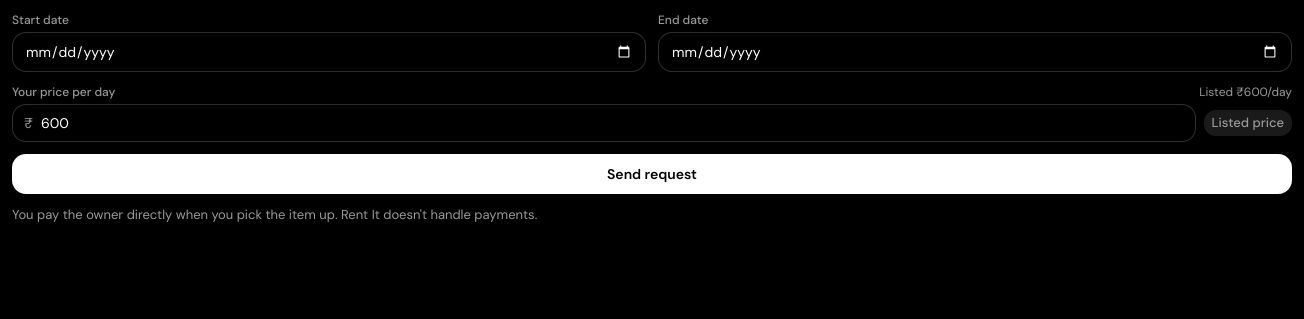
Test: OfferForm › won't submit without dates or with a zero price
Submit the form
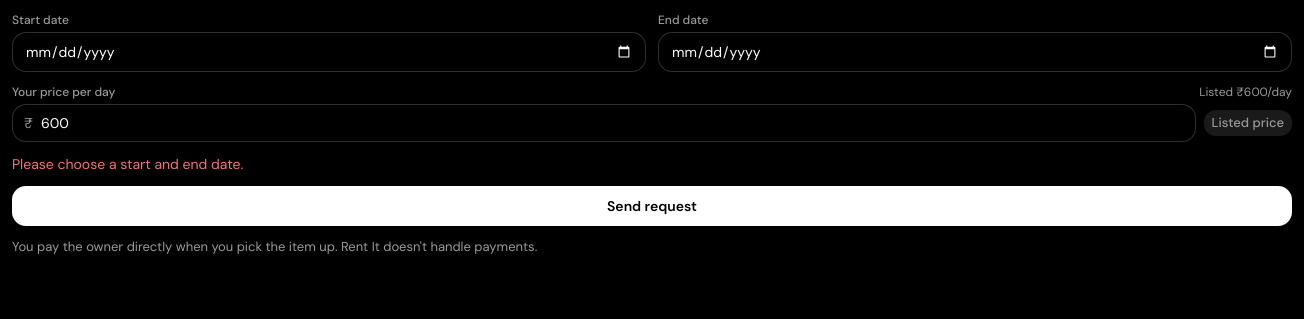
Check: the text "Please choose a start and end date." is shown, box [12,155,243,173]
Type "2099-10-12" into the date field below "Start date" at (329, 52), box [12,32,646,72]
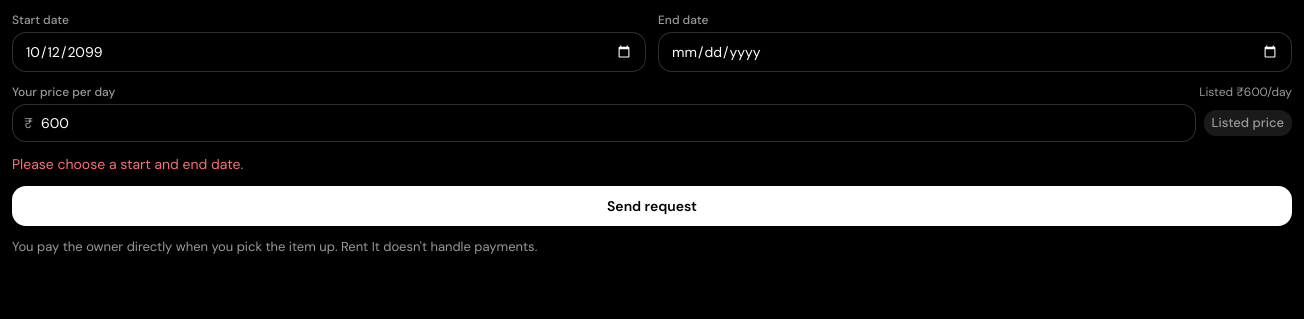
Type "2099-10-15" into the 2nd date field at (975, 52), box [658,32,1292,72]
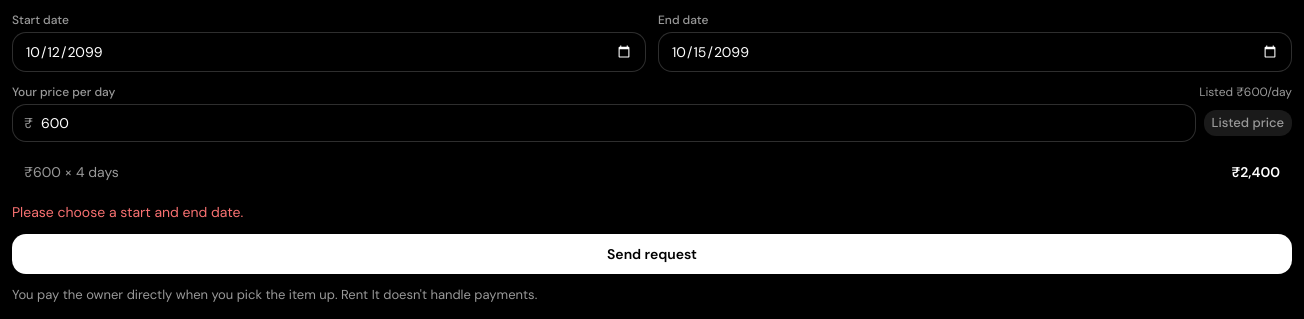
Replace the text in the number field labelled "Your price per day" with "0" at (604, 123), box [12,104,1196,142]
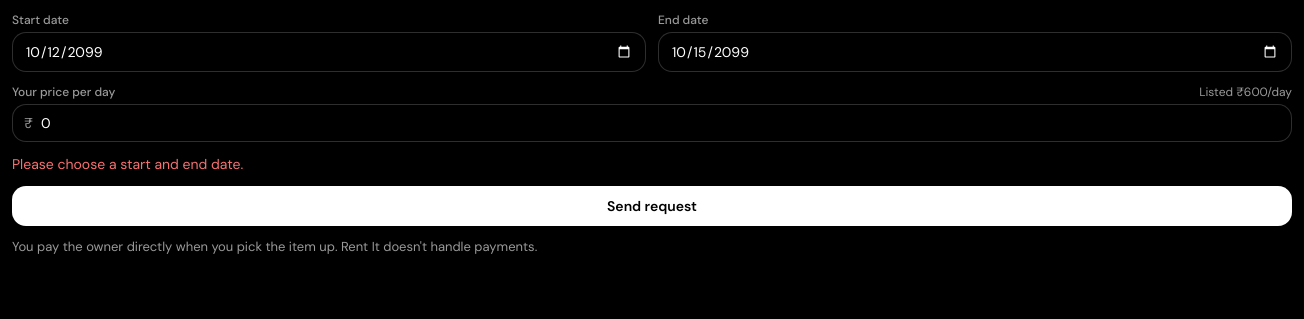
Submit the form
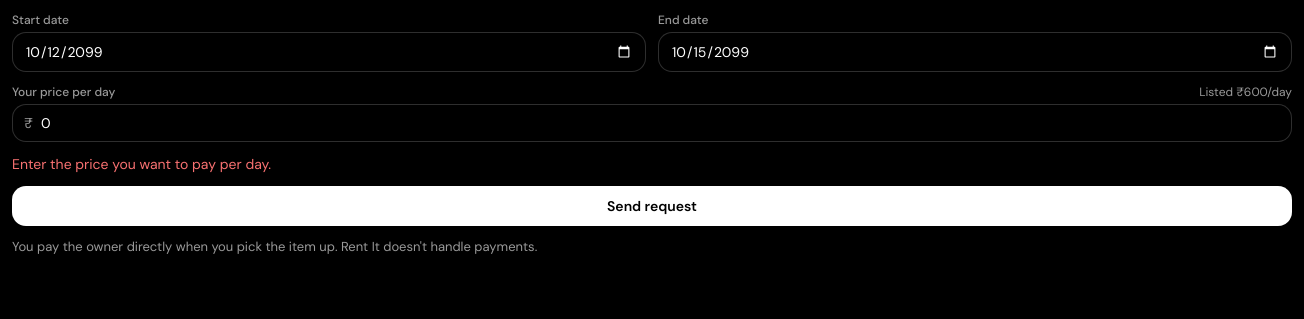
Check: the text "Enter the price you want to pay per day." is shown, box [12,155,271,173]
